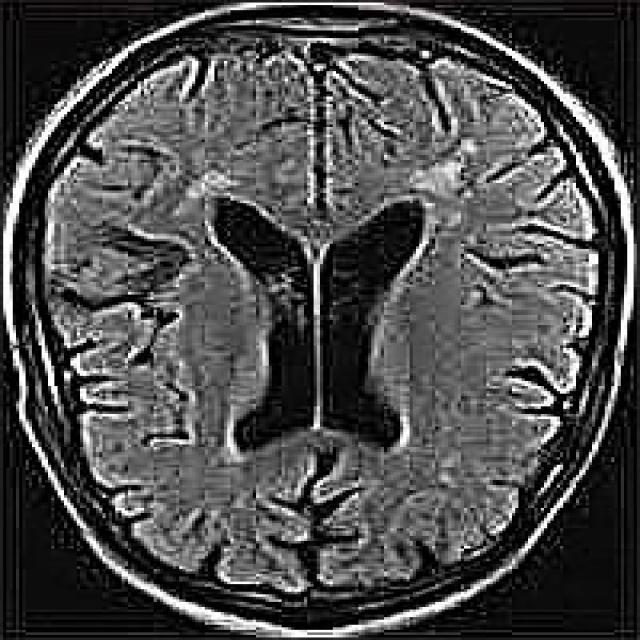notumor: (6, 8, 634, 637)
